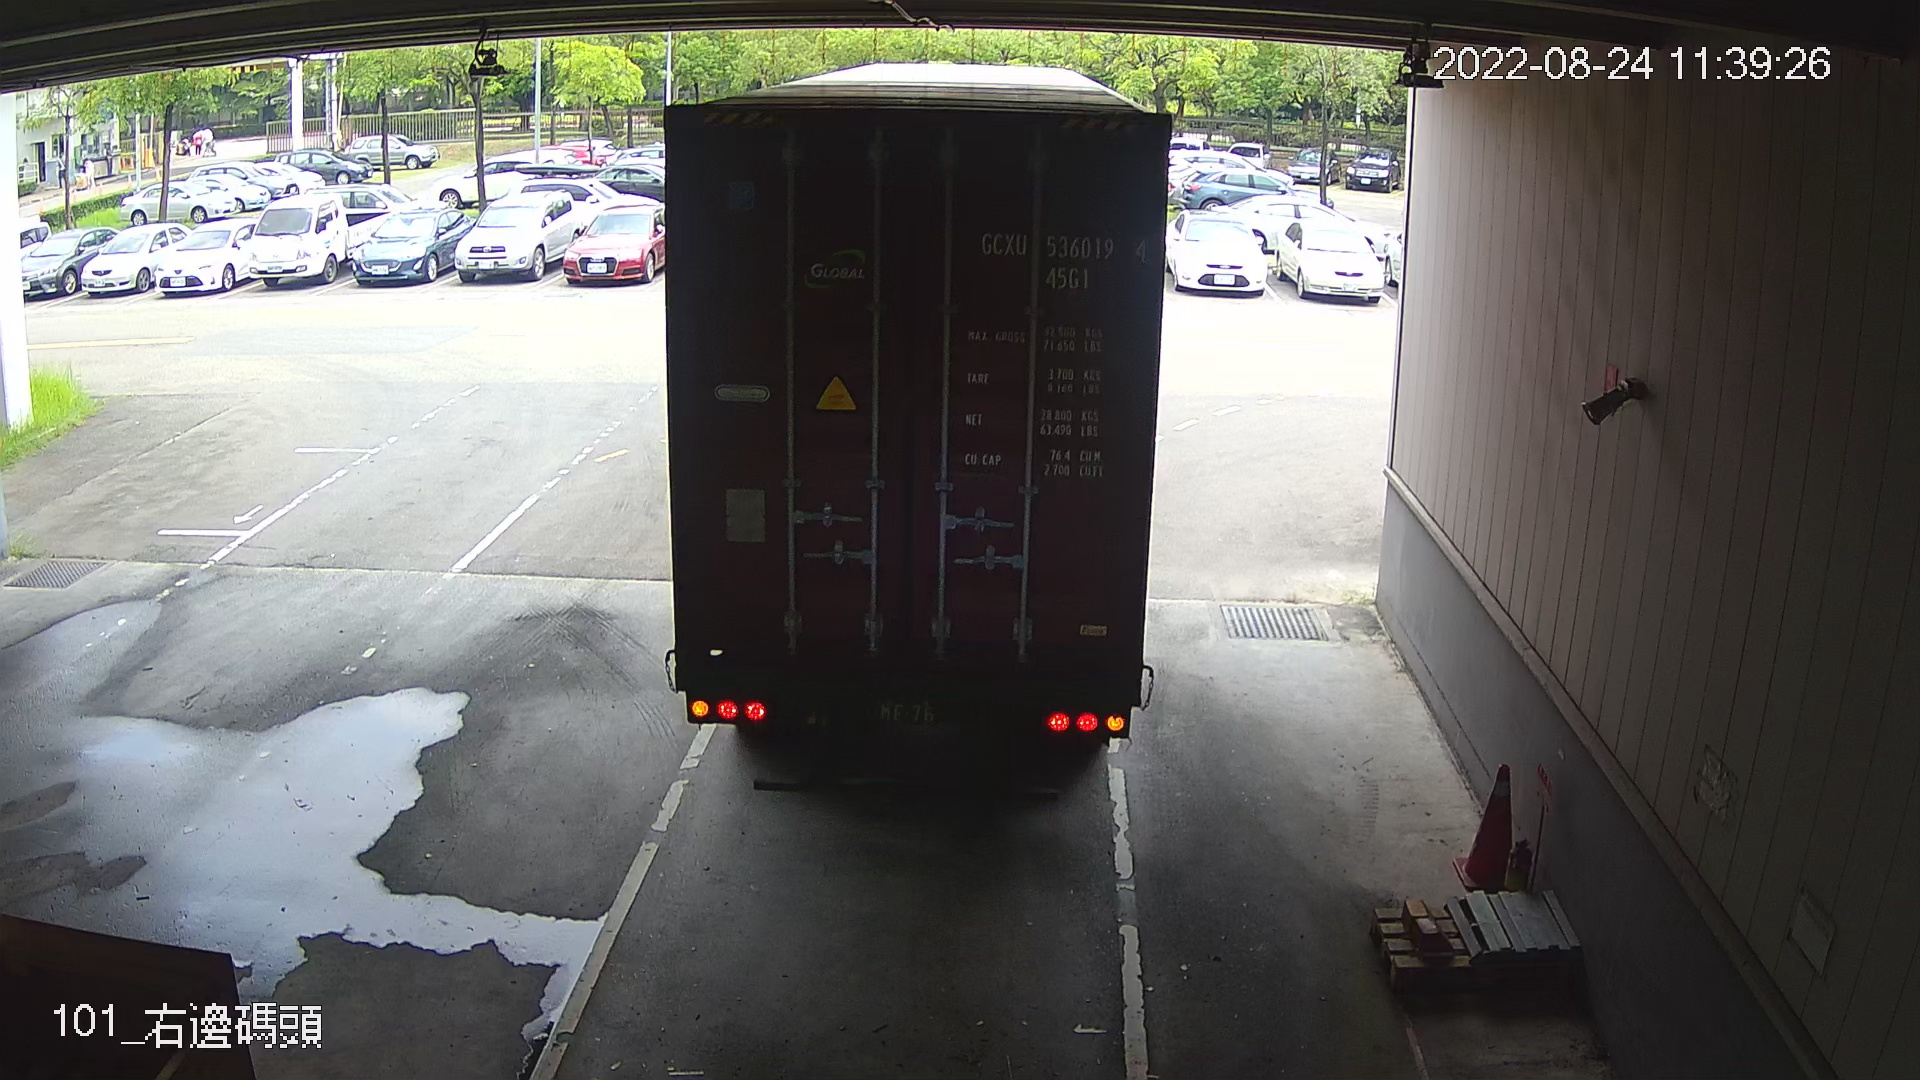container: (964, 218, 1160, 298)
